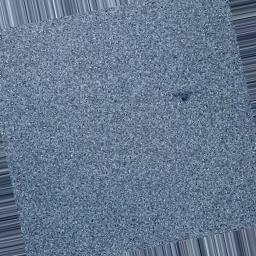Airplane: (171, 89, 200, 103)
